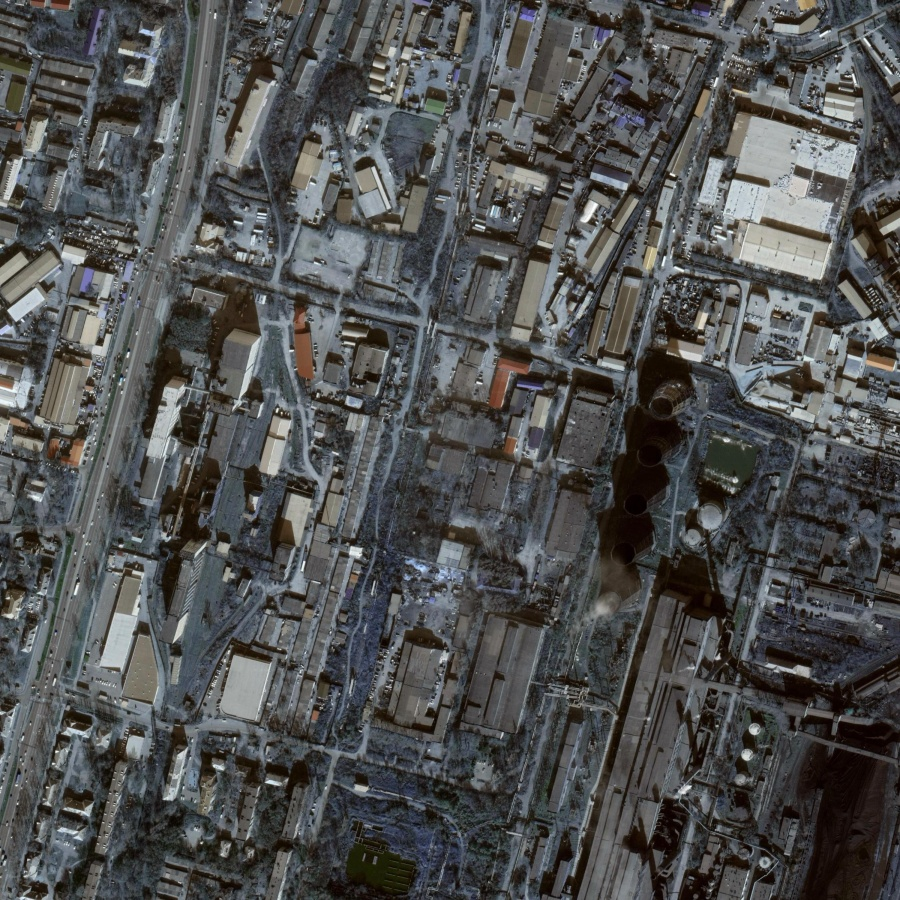PowerPlant: (565, 331, 735, 670)
